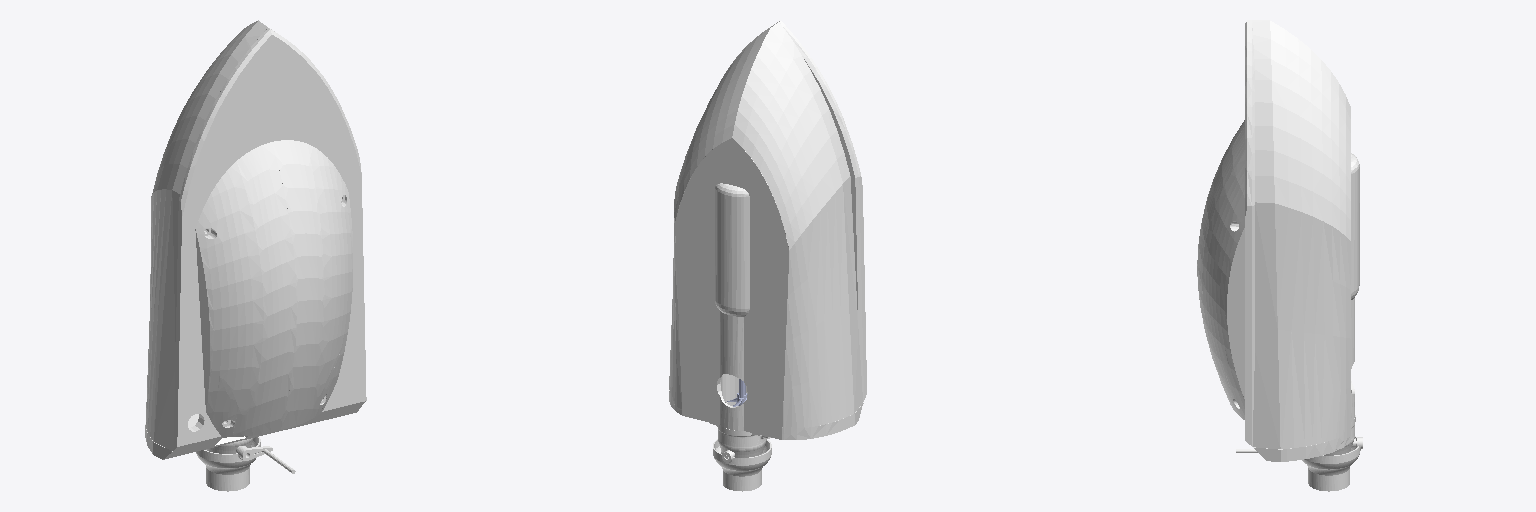
URDF robot description (BarcoRC):
<?xml version="1.0" encoding="utf-8"?>
<!-- This URDF was automatically created by SolidWorks to URDF Exporter! Originally created by [author] ([email redacted]) 
     Commit Version: 1.6.0-4-g7f85cfe  Build Version: 1.6.7995.38578
     For more information, please see http://wiki.ros.org/sw_urdf_exporter -->
<robot
  name="BarcoRC">
  <link
    name="base_link">
    <inertial>
      <origin
        xyz="-0.0106481053576376 -0.00940988311684739 -0.0547974031079744"
        rpy="0 0 0" />
      <mass
        value="0.336706133325799" />
      <inertia
        ixx="0.00150670810085699"
        ixy="-1.23352044275704E-08"
        ixz="9.88129361286902E-06"
        iyy="0.0017663813021653"
        iyz="7.43429274377914E-05"
        izz="0.000431106912119755" />
    </inertial>
    <visual>
      <origin
        xyz="0 0 0"
        rpy="0 0 0" />
      <geometry>
        <mesh
          filename="package://BarcoRC/meshes/base_link.STL" />
      </geometry>
      <material
        name="">
        <color
          rgba="1 1 1 1" />
      </material>
    </visual>
    <collision>
      <origin
        xyz="0 0 0"
        rpy="0 0 0" />
      <geometry>
        <mesh
          filename="package://BarcoRC/meshes/base_link.STL" />
      </geometry>
    </collision>
  </link>
  <link
    name="turbina_Link">
    <inertial>
      <origin
        xyz="0.0305368776508556 0.0304471545634561 0.512219563298273"
        rpy="0 0 0" />
      <mass
        value="0.00811348461398139" />
      <inertia
        ixx="1.42547286777185E-06"
        ixy="-7.42994742668061E-08"
        ixz="1.99328626113103E-08"
        iyy="1.32430388713794E-06"
        iyz="1.66415996073107E-07"
        izz="1.90438366214421E-06" />
    </inertial>
    <visual>
      <origin
        xyz="0 0 0"
        rpy="0 0 0" />
      <geometry>
        <mesh
          filename="package://BarcoRC/meshes/turbina_Link.STL" />
      </geometry>
      <material
        name="">
        <color
          rgba="1 1 1 1" />
      </material>
    </visual>
    <collision>
      <origin
        xyz="0 0 0"
        rpy="0 0 0" />
      <geometry>
        <mesh
          filename="package://BarcoRC/meshes/turbina_Link.STL" />
      </geometry>
    </collision>
  </link>
  <joint
    name="turbina_joint"
    type="revolute">
    <origin
      xyz="-0.041936 0.039764 0.35289"
      rpy="3.1416 -0.0012331 0" />
    <parent
      link="base_link" />
    <child
      link="turbina_Link" />
    <axis
      xyz="0 0 0" />
    <limit
      lower="0"
      upper="0"
      effort="0"
      velocity="0" />
  </joint>
  <link
    name="eje_Link">
    <inertial>
      <origin
        xyz="-1.45140768305005E-07 2.11546568130994E-07 -0.0446145801934548"
        rpy="0 0 0" />
      <mass
        value="0.00533924122132601" />
      <inertia
        ixx="3.96962372192069E-06"
        ixy="1.15389318496703E-12"
        ixz="3.2636339019863E-11"
        iyy="3.96962283176922E-06"
        iyz="-4.75683407045888E-11"
        izz="5.05835901051409E-08" />
    </inertial>
    <visual>
      <origin
        xyz="0 0 0"
        rpy="0 0 0" />
      <geometry>
        <mesh
          filename="package://BarcoRC/meshes/eje_Link.STL" />
      </geometry>
      <material
        name="">
        <color
          rgba="0.792156862745098 0.819607843137255 0.933333333333333 1" />
      </material>
    </visual>
    <collision>
      <origin
        xyz="0 0 0"
        rpy="0 0 0" />
      <geometry>
        <mesh
          filename="package://BarcoRC/meshes/eje_Link.STL" />
      </geometry>
    </collision>
  </link>
  <joint
    name="eje_joint"
    type="continuous">
    <origin
      xyz="-0.011109 0.011999 -0.027724"
      rpy="0 0 2.9071" />
    <parent
      link="base_link" />
    <child
      link="eje_Link" />
    <axis
      xyz="0 0 1" />
  </joint>
  <link
    name="helice_Link">
    <inertial>
      <origin
        xyz="1.1048255834506E-08 3.57094091189142E-09 -0.0100813396430642"
        rpy="0 0 0" />
      <mass
        value="0.000822672426327454" />
      <inertia
        ixx="3.13211163708346E-08"
        ixy="-1.18673503137019E-11"
        ixz="-9.13325954988257E-14"
        iyy="3.12597814922156E-08"
        iyz="-4.35025319294404E-14"
        izz="3.08299871051673E-08" />
    </inertial>
    <visual>
      <origin
        xyz="0 0 0"
        rpy="0 0 0" />
      <geometry>
        <mesh
          filename="package://BarcoRC/meshes/helice_Link.STL" />
      </geometry>
      <material
        name="">
        <color
          rgba="0.792156862745098 0.819607843137255 0.933333333333333 1" />
      </material>
    </visual>
    <collision>
      <origin
        xyz="0 0 0"
        rpy="0 0 0" />
      <geometry>
        <mesh
          filename="package://BarcoRC/meshes/helice_Link.STL" />
      </geometry>
    </collision>
  </link>
  <joint
    name="helice_joint"
    type="continuous">
    <origin
      xyz="-0.011109 0.011999 -0.12692"
      rpy="0 0 2.1217" />
    <parent
      link="base_link" />
    <child
      link="helice_Link" />
    <axis
      xyz="0 0 1" />
  </joint>
  <link
    name="motor_Link">
    <inertial>
      <origin
        xyz="2.29682841782278E-07 0.00679323090396891 -3.34768905940058E-07"
        rpy="0 0 0" />
      <mass
        value="0.00827309146794532" />
      <inertia
        ixx="6.35788162889274E-07"
        ixy="-4.79702036597381E-11"
        ixz="1.77086090573455E-10"
        iyy="6.89986910577233E-07"
        iyz="6.99178596613285E-11"
        izz="6.35651552802141E-07" />
    </inertial>
    <visual>
      <origin
        xyz="0 0 0"
        rpy="0 0 0" />
      <geometry>
        <mesh
          filename="package://BarcoRC/meshes/motor_Link.STL" />
      </geometry>
      <material
        name="">
        <color
          rgba="0.792156862745098 0.819607843137255 0.933333333333333 1" />
      </material>
    </visual>
    <collision>
      <origin
        xyz="0 0 0"
        rpy="0 0 0" />
      <geometry>
        <mesh
          filename="package://BarcoRC/meshes/motor_Link.STL" />
      </geometry>
    </collision>
  </link>
  <joint
    name="motor_joint"
    type="continuous">
    <origin
      xyz="-0.011109 0.011999 0"
      rpy="-1.5708 0 -0.23454" />
    <parent
      link="base_link" />
    <child
      link="motor_Link" />
    <axis
      xyz="0 1 0" />
  </joint>
</robot>

--- Render facts (derived) ---
The picture shows the robot from 3 angles, left to right: view 1: azimuth 30°, elevation 25°; view 2: azimuth 150°, elevation 25°; view 3: azimuth 270°, elevation 25°; orthographic projection.
Robot: BarcoRC — 5 links, 4 joints (1 revolute, 3 continuous); root link base_link; default pose: all joints at 0.
Visible links, largest first — view 1: base_link, turbina_Link; view 2: base_link, turbina_Link; view 3: base_link, turbina_Link.
Boxes of the visible links, <box> form: base_link: <box>145,20,366,459</box>; turbina_Link: <box>196,437,295,491</box>; base_link: <box>669,21,866,439</box>; turbina_Link: <box>710,423,771,491</box>; base_link: <box>1197,20,1359,461</box>; turbina_Link: <box>1236,415,1362,491</box>.
Size in the robot's own frame: 0.1258 by 0.0947 by 0.2921 metres.
5 mesh visuals loaded from 5 distinct referenced files (5 binary STL).